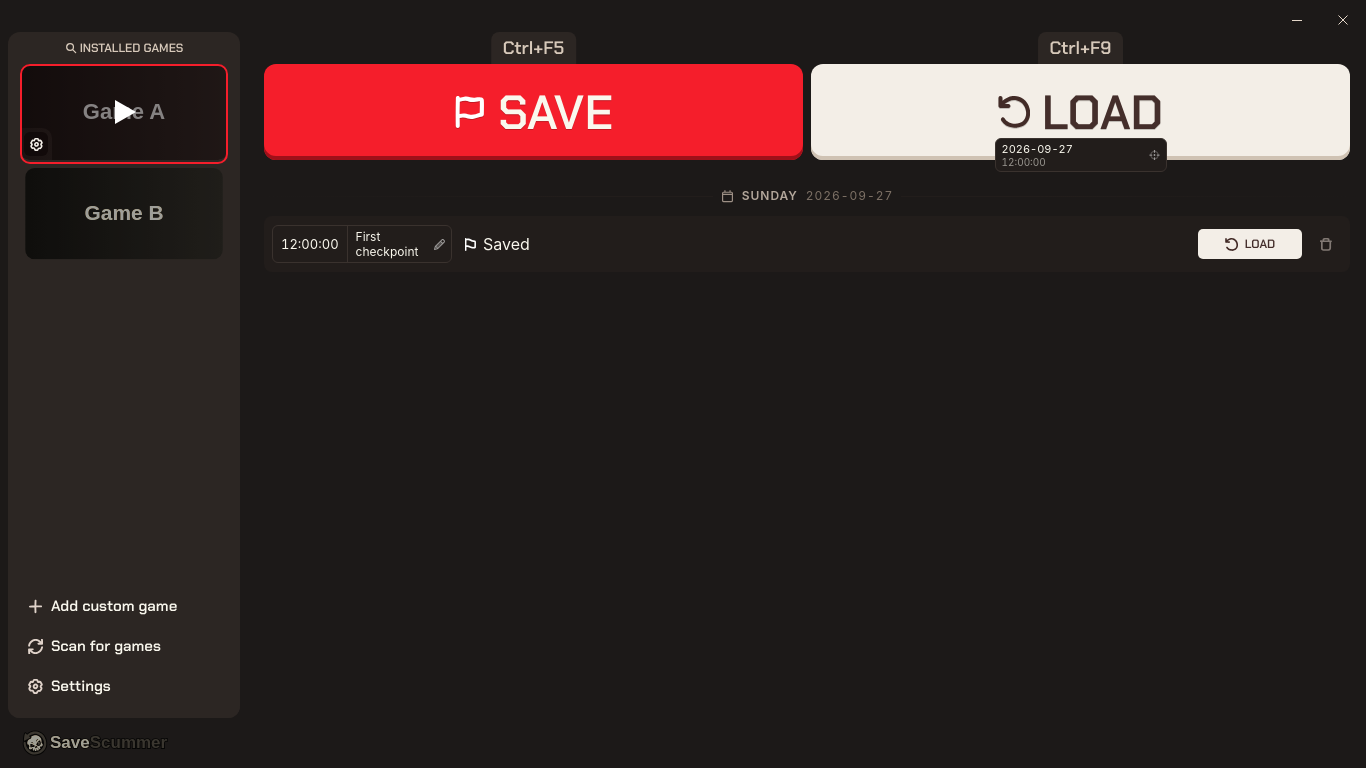
Test: Configure offers executable Reset when the host reports an override
This screenshot has width=1366, height=768.
Expected: the text "First checkpoint" is shown, [356,229,418,259]
What coordinates should you click on to do the following:
click the button named "Configure Game A"
I would click on:
 (36, 144)
Its box is [24,132,48,156].
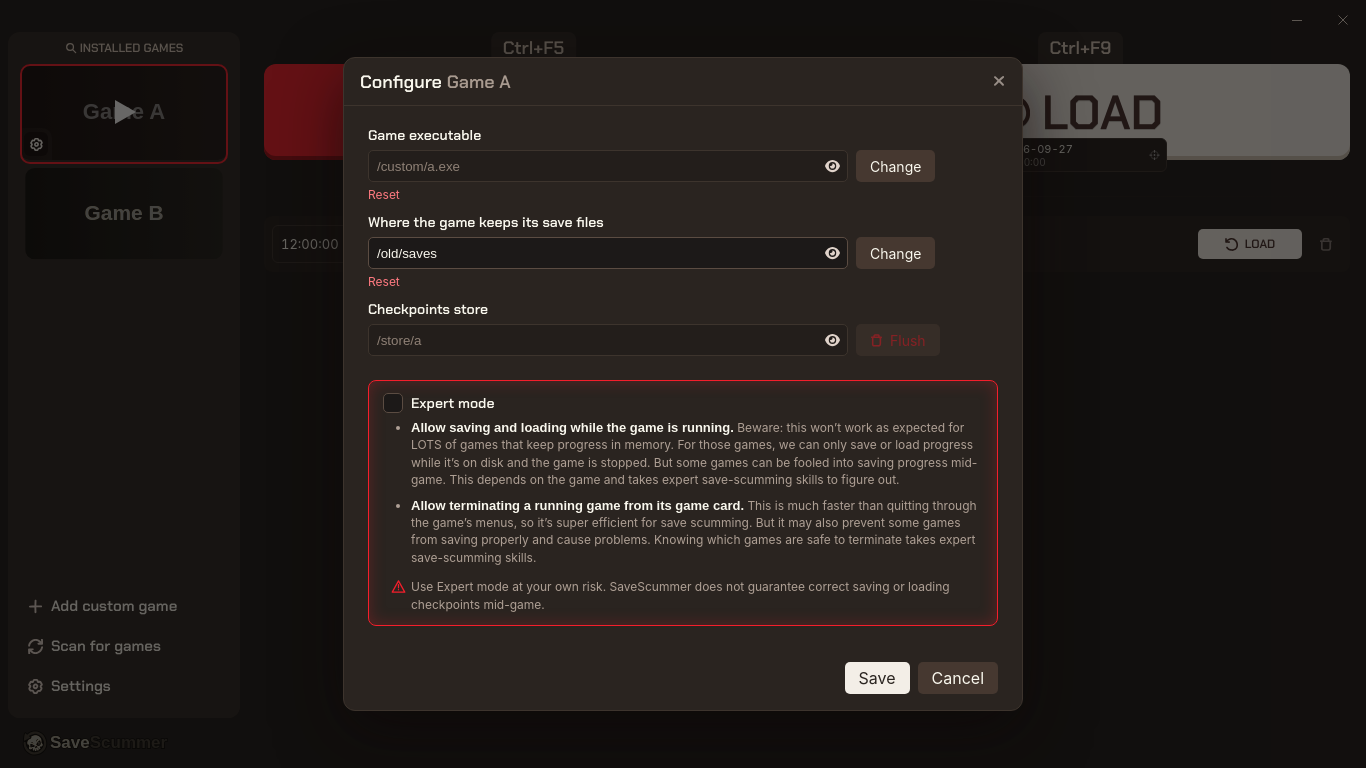
Expected: the field labelled "Where the game keeps its save files" holds "/old/saves", [368,237,848,269]
Expected: the number of buttons "Reset" is 2, [368,187,400,203]; [368,274,400,290]
